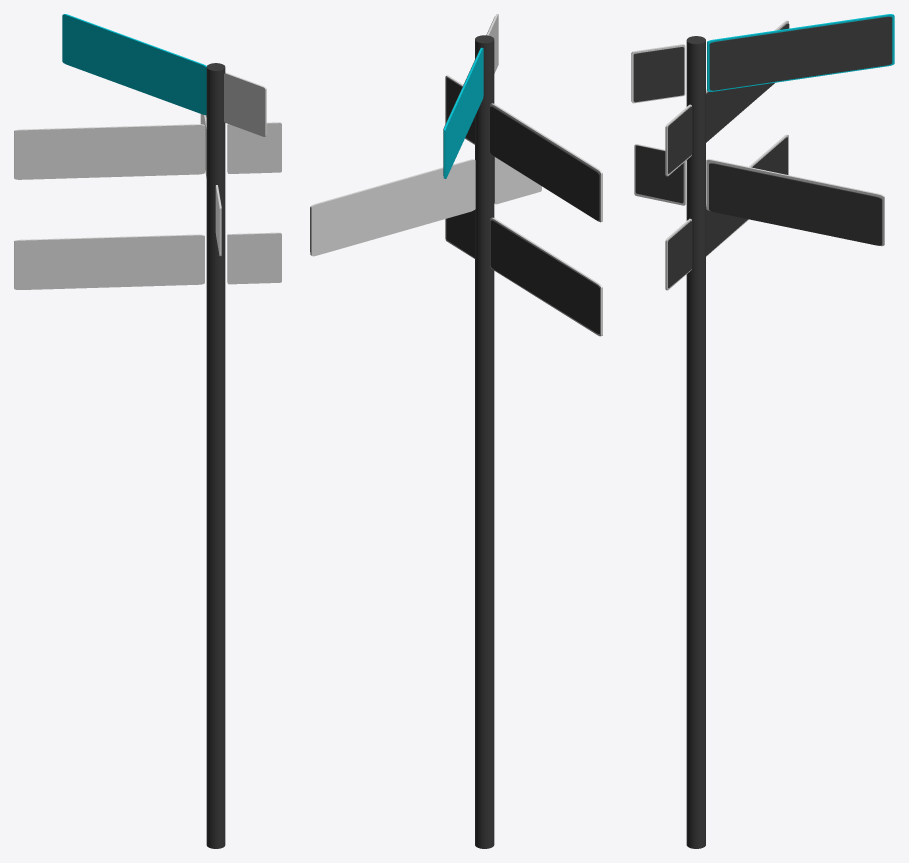
The model's file is Carteles.fbx.
3 views of the same model, side by side, from view 1: azimuth 30°, elevation 25°; view 2: azimuth 150°, elevation 25°; view 3: azimuth 270°, elevation 25° (orthographic). The views are drawn at different scales.
Parts seen in each view (by area): view 1: Cylinder.070, Cube.449, Cube.445, Cube.452, Cube.446, Cube.450, Cube.451; view 2: Cylinder.070, Cube.448, Cube.443, Cube.441, Cube.452, Cube.447, Cube.437, Cube.445, Cube.449; view 3: Cylinder.070, Cube.444, Cube.442, Cube.440, Cube.438, Cube.443, Cube.441, Cube.437, Cube.439, Cube.452, Cube.448.
Part boxes in pixels (bbox=[...]): Cylinder.070: bbox=[206, 63, 225, 848]; Cube.449: bbox=[14, 124, 204, 179]; Cube.445: bbox=[14, 234, 204, 289]; Cube.452: bbox=[62, 14, 206, 115]; Cube.446: bbox=[227, 232, 281, 284]; Cube.450: bbox=[227, 122, 281, 173]; Cube.451: bbox=[224, 72, 266, 136]; Cylinder.070: bbox=[475, 35, 494, 848]; Cube.448: bbox=[310, 159, 475, 256]; Cube.443: bbox=[490, 106, 599, 220]; Cube.441: bbox=[490, 220, 599, 333]; Cube.452: bbox=[443, 47, 483, 178]; Cube.447: bbox=[494, 157, 541, 204]; Cube.437: bbox=[446, 210, 474, 257]; Cube.445: bbox=[490, 217, 602, 336]; Cube.449: bbox=[490, 103, 602, 222]; Cylinder.070: bbox=[686, 36, 705, 848]; Cube.444: bbox=[709, 16, 892, 90]; Cube.442: bbox=[709, 163, 882, 245]; Cube.440: bbox=[633, 47, 684, 102]; Cube.438: bbox=[635, 145, 683, 203]; Cube.443: bbox=[706, 23, 789, 142]; Cube.441: bbox=[706, 137, 787, 255]; Cube.437: bbox=[668, 221, 692, 288]; Cube.439: bbox=[668, 106, 692, 173]; Cube.452: bbox=[707, 14, 894, 91]; Cube.448: bbox=[706, 159, 884, 246].
Bounding box in the file's own units: 116 × 364 × 108.
